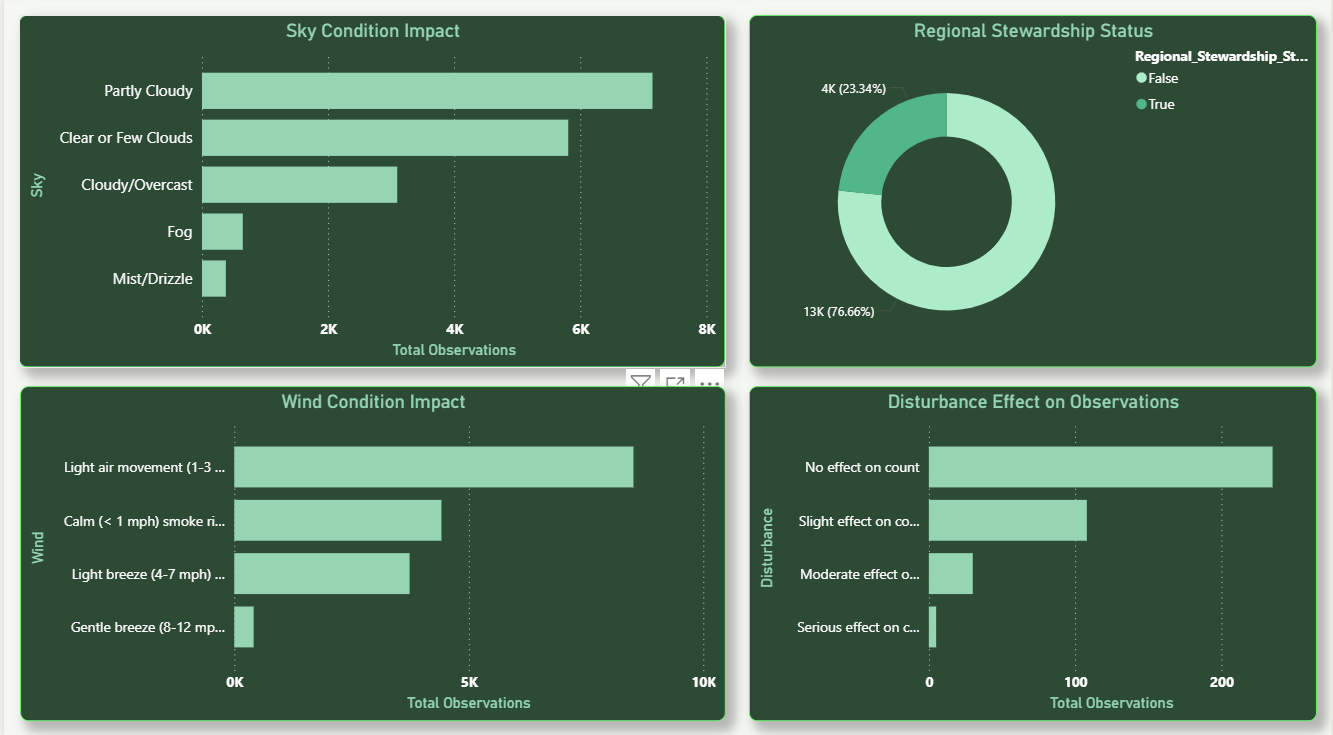

The dashboard page shown, as its layout file describes it:
{"tool":"powerbi","page":{"name":"Environmental & Conservation Insights","canvas":[1280,720],"ordinal":4},"visuals":[{"type":"clusteredBarChart","title":"Sky Condition Impact","fields":{"Category":["bird_combined_clean.Sky"],"Y":["bird_combined_clean.Total Observations"]},"box":[14.5,19.3,681.6,340.2],"z":0},{"type":"donutChart","title":"Regional Stewardship Status","fields":{"Y":["bird_combined_clean.Total Observations"],"Category":["bird_combined_clean.Regional_Stewardship_Status"]},"box":[719,19.3,547.7,340.2],"z":1000},{"type":"clusteredBarChart","title":"Wind Condition Impact","fields":{"Y":["bird_combined_clean.Total Observations"],"Category":["bird_combined_clean.Wind"]},"box":[15.7,377.6,680.4,323.3],"z":2000},{"type":"clusteredBarChart","title":"Disturbance Effect on Observations","fields":{"Category":["bird_combined_clean.Disturbance"],"Y":["bird_combined_clean.Total Observations"]},"box":[719,377.6,547.7,323.3],"z":3000}]}

Visuals, with their boxes in screenshot pixels (x1, y1, x2, y2), scaled from the page's 1280x720 canvas onto the 1333x735 screenshot:
"Sky Condition Impact" clusteredBarChart: box(15, 20, 725, 367)
"Regional Stewardship Status" donutChart: box(749, 20, 1319, 367)
"Wind Condition Impact" clusteredBarChart: box(16, 385, 725, 716)
"Disturbance Effect on Observations" clusteredBarChart: box(749, 385, 1319, 716)
